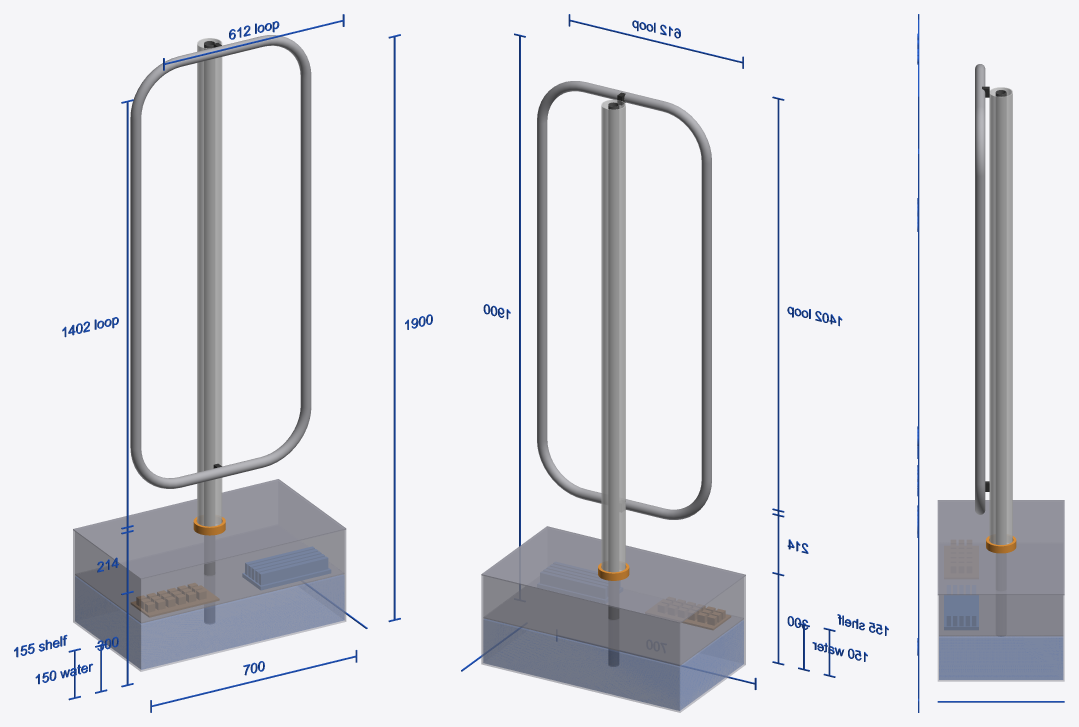
File: unit-dimensioned.glb
3 renders of one model, left to right at view 1: azimuth 30°, elevation 25°; view 2: azimuth 150°, elevation 25°; view 3: azimuth 270°, elevation 25°, orthographic. The views are drawn at different scales.
Parts seen in each view (by area): view 1: tank, lid, track_loop, water_volume, growing_pipe, dimensions, shelf, spine_tube, seedling_storage, seedling_tray; view 2: tank, lid, growing_pipe, track_loop, water_volume, shelf, spine_tube, dimensions, seedling_storage, seedling_tray; view 3: tank, growing_pipe, lid, spine_tube, water_volume, track_loop, shelf, dimensions, seedling_storage, seedling_tray, socket.
Part boxes in pixels (<box>): tank: <box>73,481,346,671</box>; lid: <box>73,479,346,579</box>; track_loop: <box>130,35,311,488</box>; water_volume: <box>75,575,344,669</box>; growing_pipe: <box>197,38,222,526</box>; dimensions: <box>14,14,432,712</box>; shelf: <box>75,541,344,623</box>; spine_tube: <box>204,41,214,623</box>; seedling_storage: <box>242,546,330,590</box>; seedling_tray: <box>131,583,219,617</box>; tank: <box>481,528,745,712</box>; lid: <box>481,526,745,623</box>; growing_pipe: <box>601,99,625,572</box>; track_loop: <box>537,81,711,519</box>; water_volume: <box>483,619,743,710</box>; shelf: <box>483,586,743,665</box>; spine_tube: <box>608,102,619,666</box>; dimensions: <box>461,14,888,689</box>; seedling_storage: <box>537,562,622,603</box>; seedling_tray: <box>645,597,730,629</box>; tank: <box>937,502,1064,681</box>; growing_pipe: <box>989,87,1012,544</box>; lid: <box>937,500,1064,595</box>; spine_tube: <box>995,90,1006,590</box>; water_volume: <box>939,637,1062,679</box>; track_loop: <box>975,64,985,514</box>; shelf: <box>939,595,1062,636</box>; dimensions: <box>917,14,1064,712</box>; seedling_storage: <box>944,585,978,629</box>; seedling_tray: <box>944,540,978,578</box>; socket: <box>986,536,1016,553</box>.
Size of the model in its own units: 1425 by 2160 by 464.
